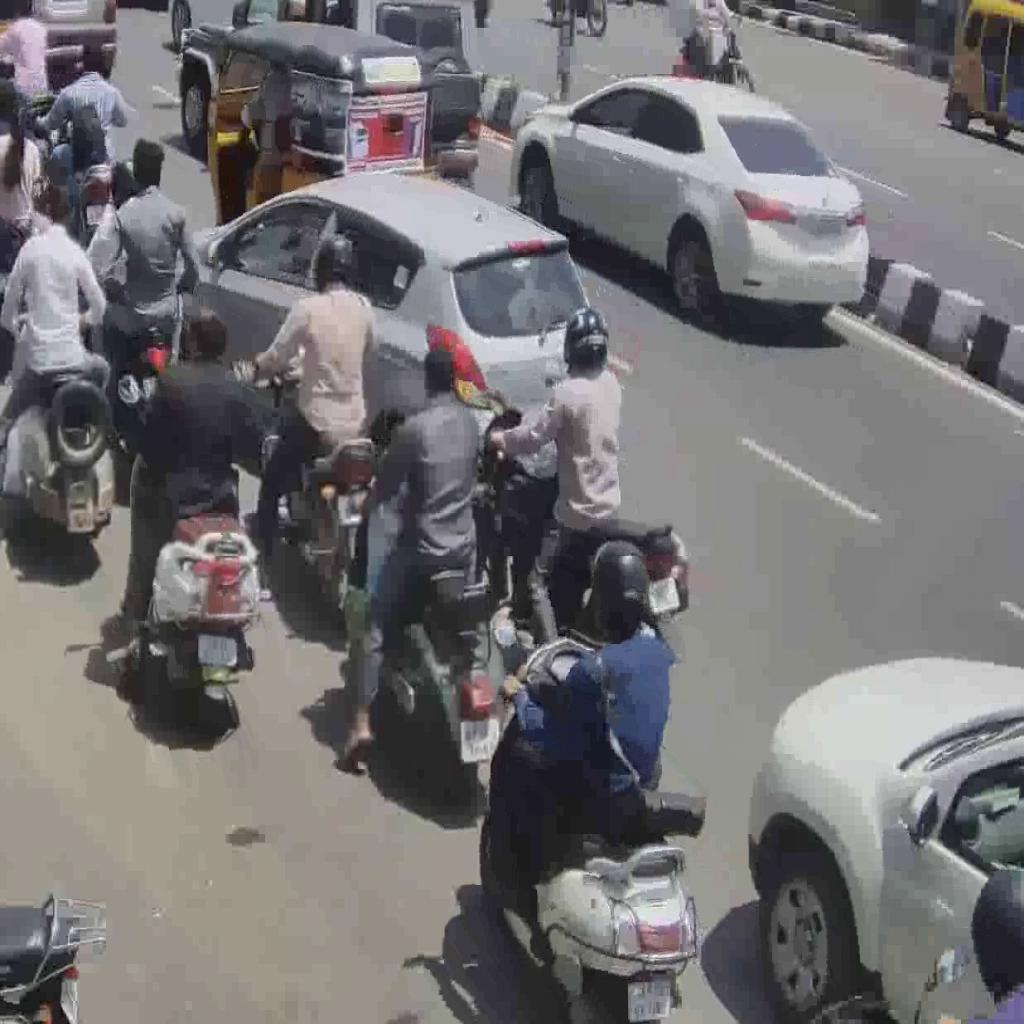helmet: (478, 634, 698, 1024), (474, 405, 695, 674), (347, 461, 502, 799), (126, 381, 260, 731), (260, 331, 374, 615), (4, 297, 115, 569)
